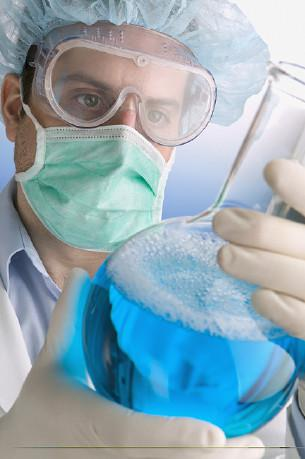OK: (13, 59, 197, 243)
